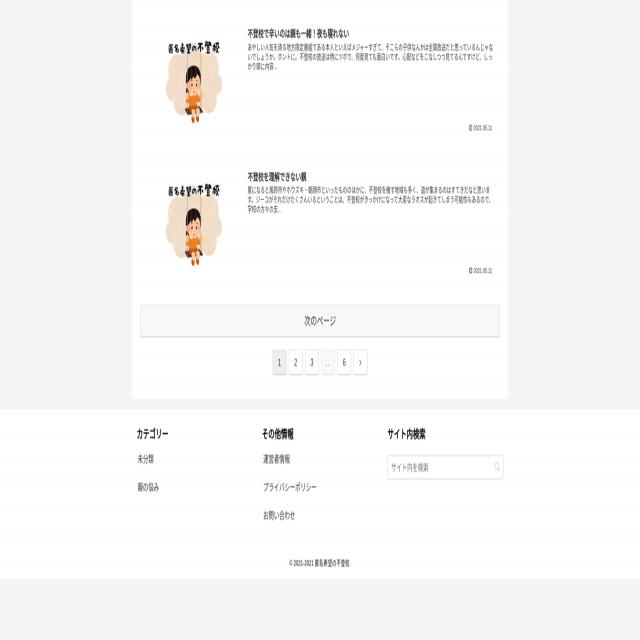button: (140, 304, 500, 337), (146, 173, 242, 270), (146, 31, 242, 128), (353, 350, 368, 375), (321, 349, 335, 374), (289, 350, 303, 375), (305, 350, 319, 375), (338, 350, 352, 375), (272, 350, 286, 374), (494, 460, 501, 475)
field: (387, 454, 503, 479)
